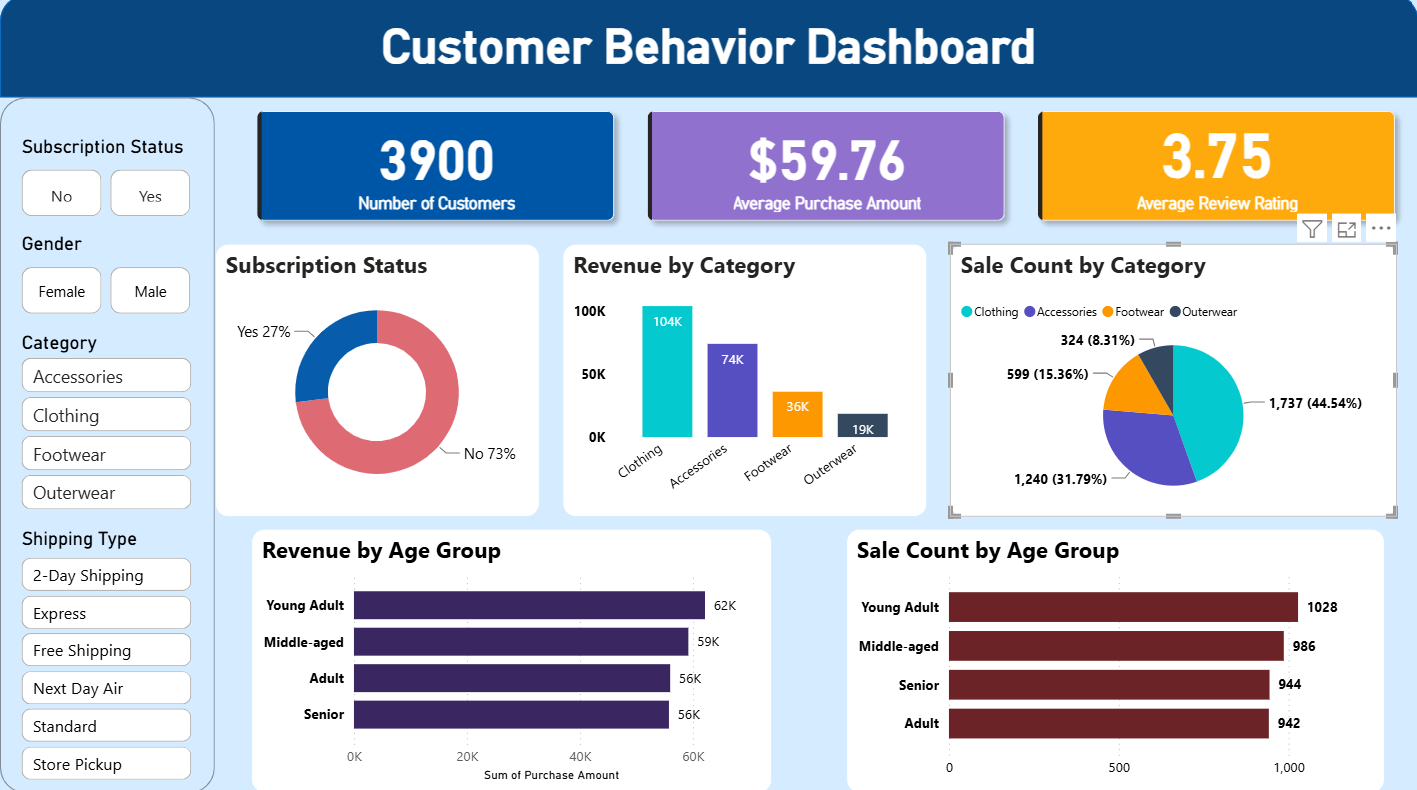

The dashboard page shown, as its layout file describes it:
{"tool":"powerbi","page":{"name":"Page 1","canvas":[1280,720],"ordinal":0},"visuals":[{"type":"cardVisual","fields":{"Data":["public customer.Number of Customers","public customer.Average Purchase Amount","public customer.Average Review Rating"]},"box":[211.6,84.9,1068.6,139.5],"z":0},{"type":"donutChart","title":"Subscription Status","fields":{"Category":["public customer.subscription_status"],"Y":["CountNonNull(public customer.customer_id)"]},"box":[194.2,224.4,293,246.5],"z":1000},{"type":"clusteredColumnChart","title":"Revenue by Category","fields":{"Y":["Sum(public customer.purchase_amount)"],"Category":["public customer.category"]},"box":[507,224.4,329.1,246.5],"z":2000},{"type":"pieChart","title":"Sale Count by Category","fields":{"Y":["CountNonNull(public customer.customer_id)"],"Category":["public customer.category"]},"box":[857,224.4,403.5,246.5],"z":3000},{"type":"shape","box":[0,92.5,193.8,627.5],"z":4000},{"type":"advancedSlicerVisual","fields":{"Values":["public customer.subscription_status"]},"box":[15,126.2,163.8,78.8],"z":5000},{"type":"advancedSlicerVisual","fields":{"Values":["public customer.gender"]},"box":[15,213.8,163.8,78.8],"z":6000},{"type":"advancedSlicerVisual","fields":{"Values":["public customer.category"]},"box":[15,303.8,163.8,167.5],"z":7000},{"type":"listSlicer","fields":{"Values":["public customer.shipping_type"]},"box":[14.7,480.6,163.9,239.7],"z":8000},{"type":"shape","box":[0,0,1280,92.5],"z":9000},{"type":"textbox","box":[271.5,17.1,735,60],"z":10000},{"type":"clusteredBarChart","title":"Revenue by Age Group","fields":{"Y":["Sum(public customer.purchase_amount)"],"Category":["public customer.age_group"]},"box":[226.7,481.4,469.6,238.5],"z":11000},{"type":"clusteredBarChart","title":"Sale Count by Age Group","fields":{"Y":["CountNonNull(public customer.customer_id)"],"Category":["public customer.age_group"]},"box":[762.8,481.4,485.5,238.5],"z":12000}]}

Visuals, with their boxes in screenshot pixels (x1, y1, x2, y2), scaled from the page's 1280x720 canvas onto the 1417x790 screenshot:
cardVisual - public customer.Number of Customers x public customer.Average Purchase Amount: 234 93 1416 246
"Subscription Status" donutChart: 215 246 539 517
"Revenue by Category" clusteredColumnChart: 561 246 926 517
"Sale Count by Category" pieChart: 949 246 1395 517
shape: 0 101 215 789
advancedSlicerVisual - public customer.subscription_status: 17 138 198 225
advancedSlicerVisual - public customer.gender: 17 235 198 321
advancedSlicerVisual - public customer.category: 17 333 198 517
listSlicer - public customer.shipping_type: 16 527 198 789
shape: 0 0 1416 101
textbox: 301 19 1114 85
"Revenue by Age Group" clusteredBarChart: 251 528 771 789
"Sale Count by Age Group" clusteredBarChart: 844 528 1382 789
